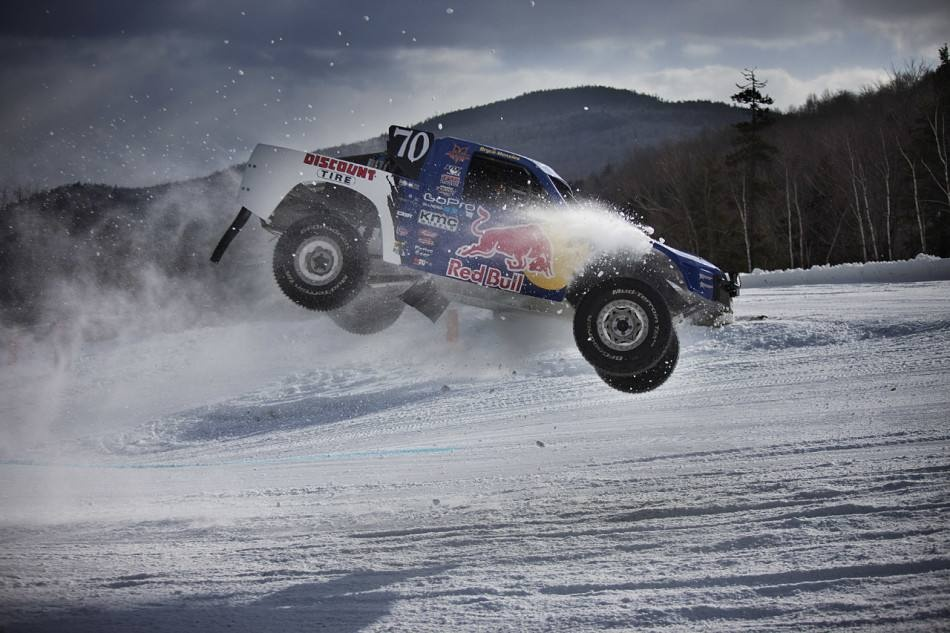racing car: (222, 104, 725, 400)
